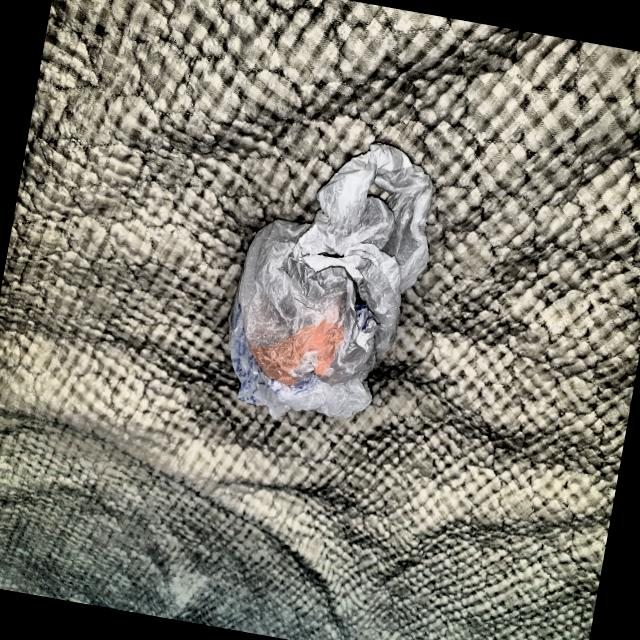plastic bag: (196, 109, 455, 448)
